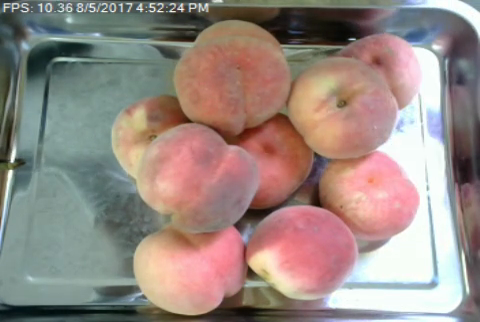Peach: (173, 19, 290, 136), (137, 122, 259, 230), (286, 58, 398, 160), (131, 223, 252, 314), (244, 205, 358, 299), (316, 152, 418, 240), (335, 30, 422, 110)
